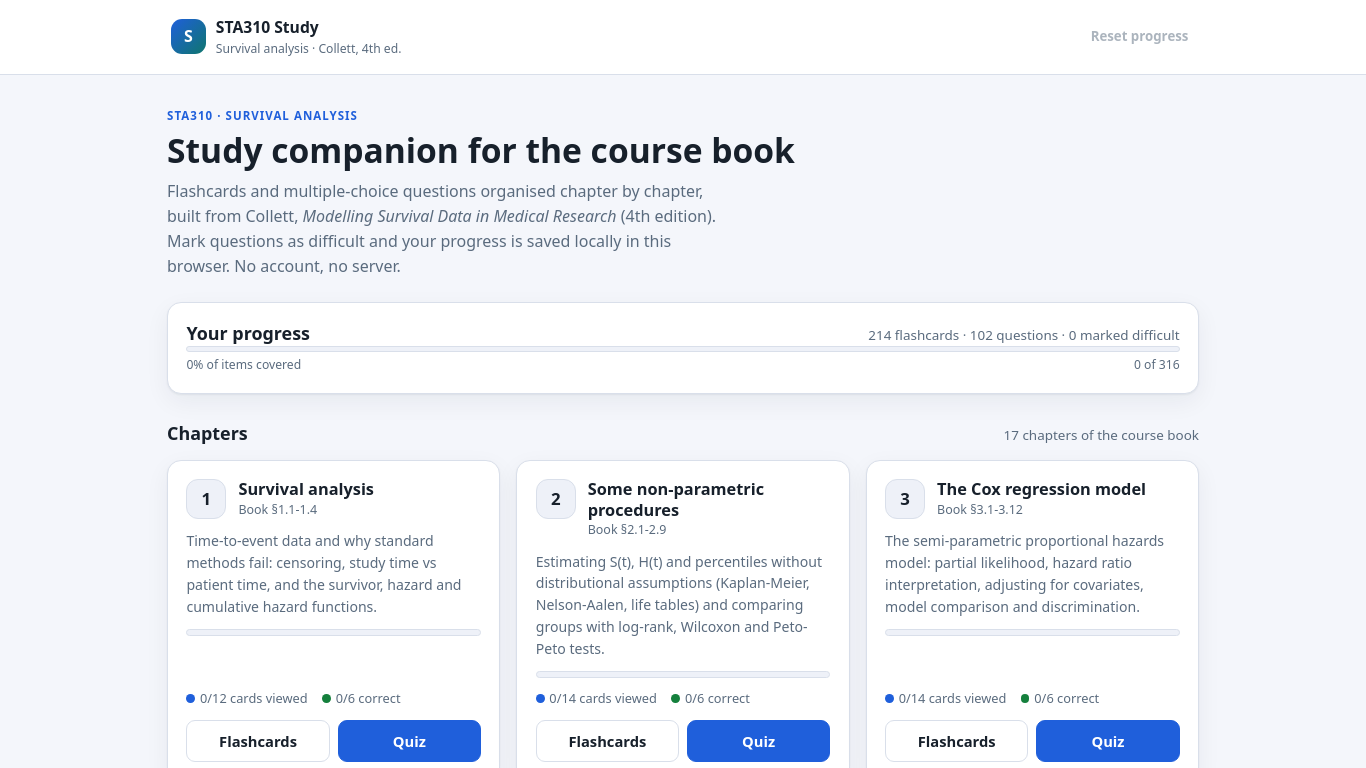
Test: quiz flow › opens a chapter quiz and gives feedback on a correct answer
Click the button "Quiz" below "§1.1-1.4" at (409, 741), box [338, 720, 481, 762]
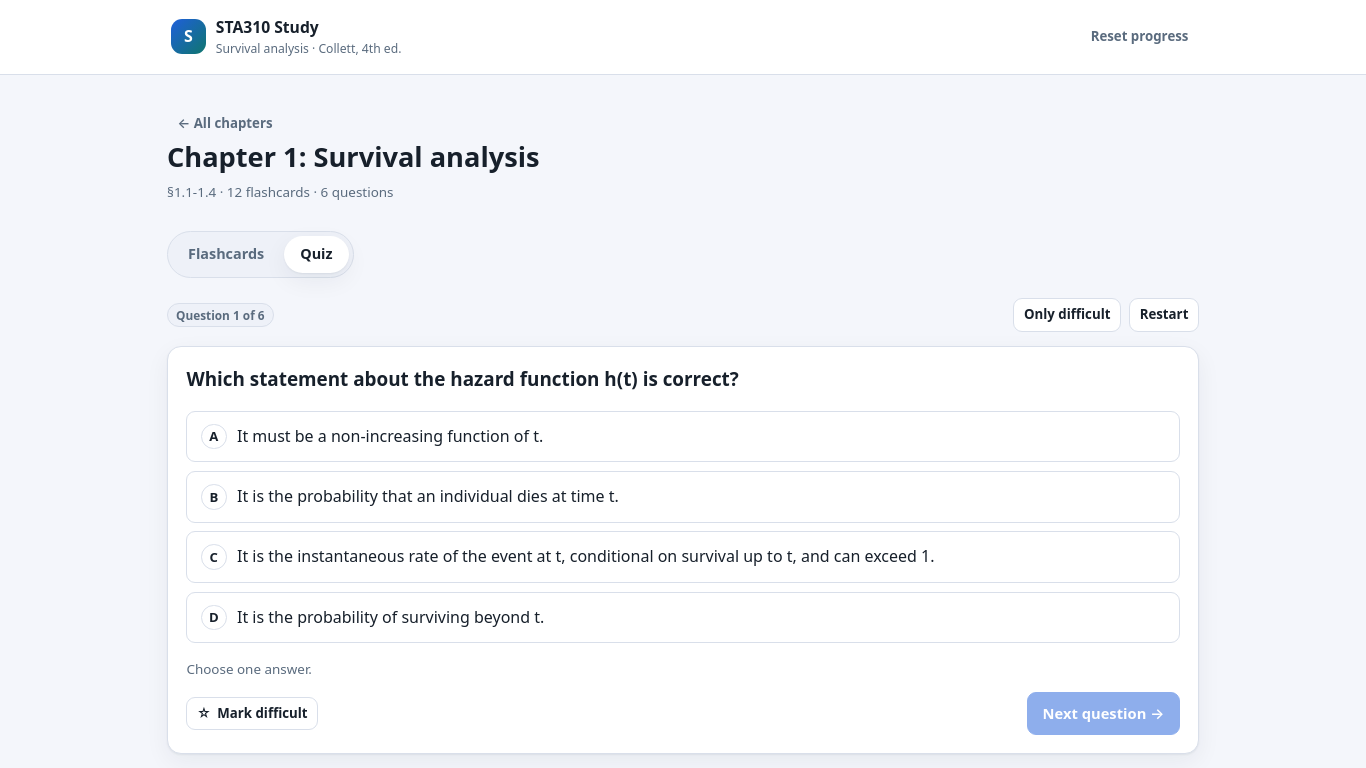
Check: the text "Which statement about the hazard function h(t) is correct?" is shown, box [186, 366, 739, 392]
Click the button "instantaneous rate of the event at t," at (683, 557), box [186, 531, 1180, 583]
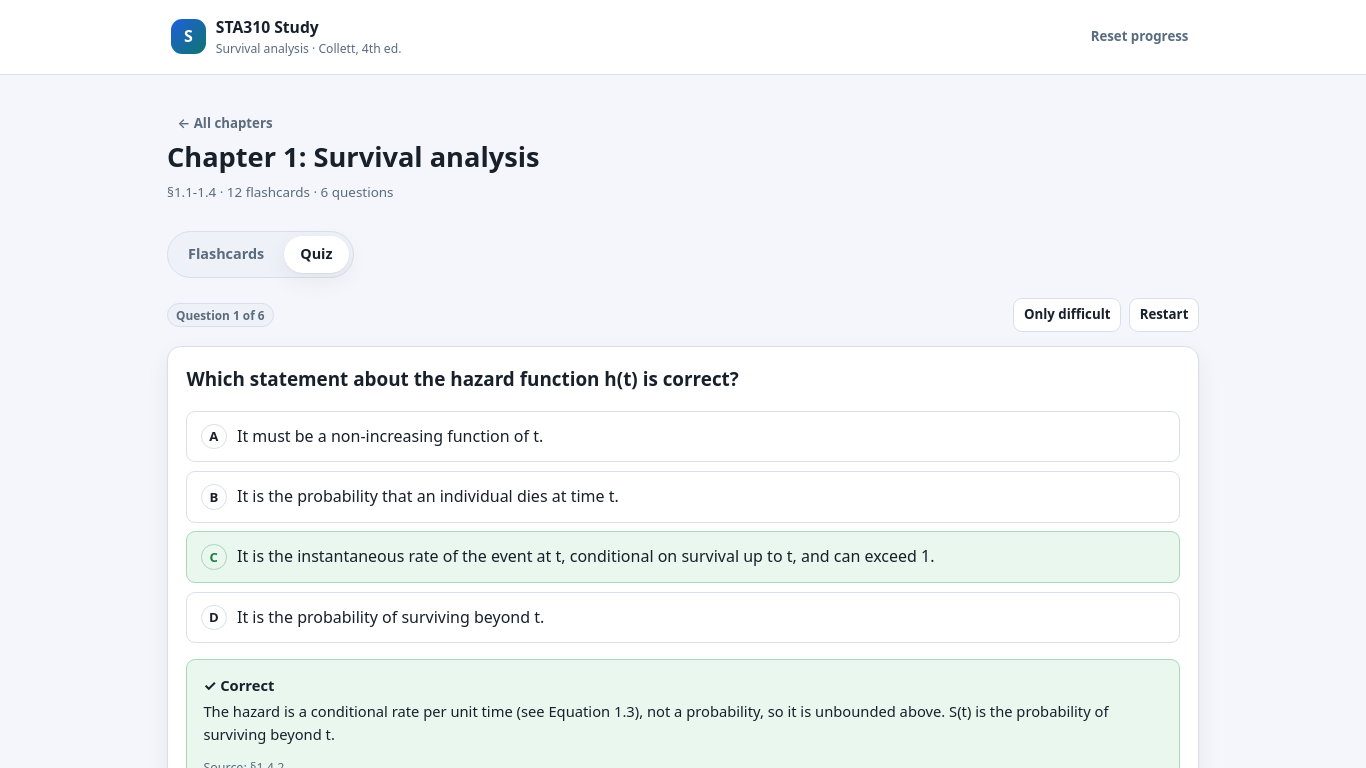
Check: the text "✓ Correct" is shown, box [203, 675, 274, 695]
